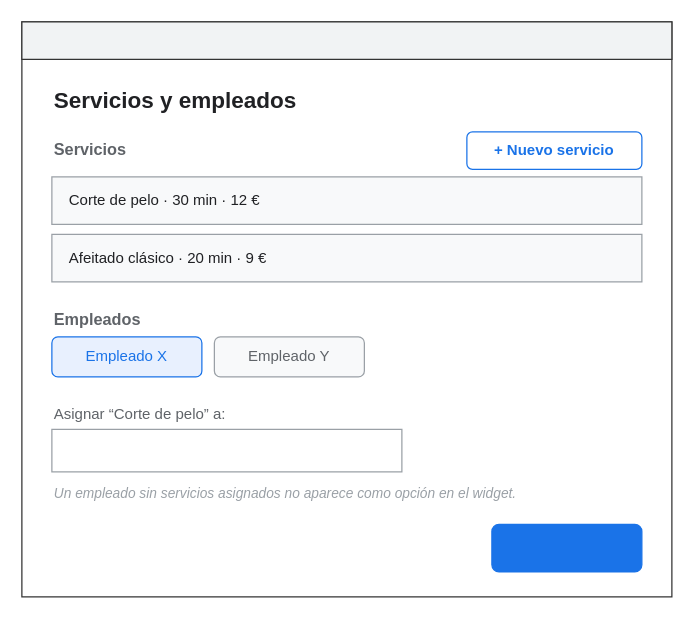
The diagram is 694 pixels wide and 619 high, and some of its shapes have lost their labels. The centre of each missing label's shape, as x and y in pixels:
Empleado X ▼: the point at 226,450
Guardar: the point at 566,547
Panel · Catálogo de servicios: the point at 346,40
